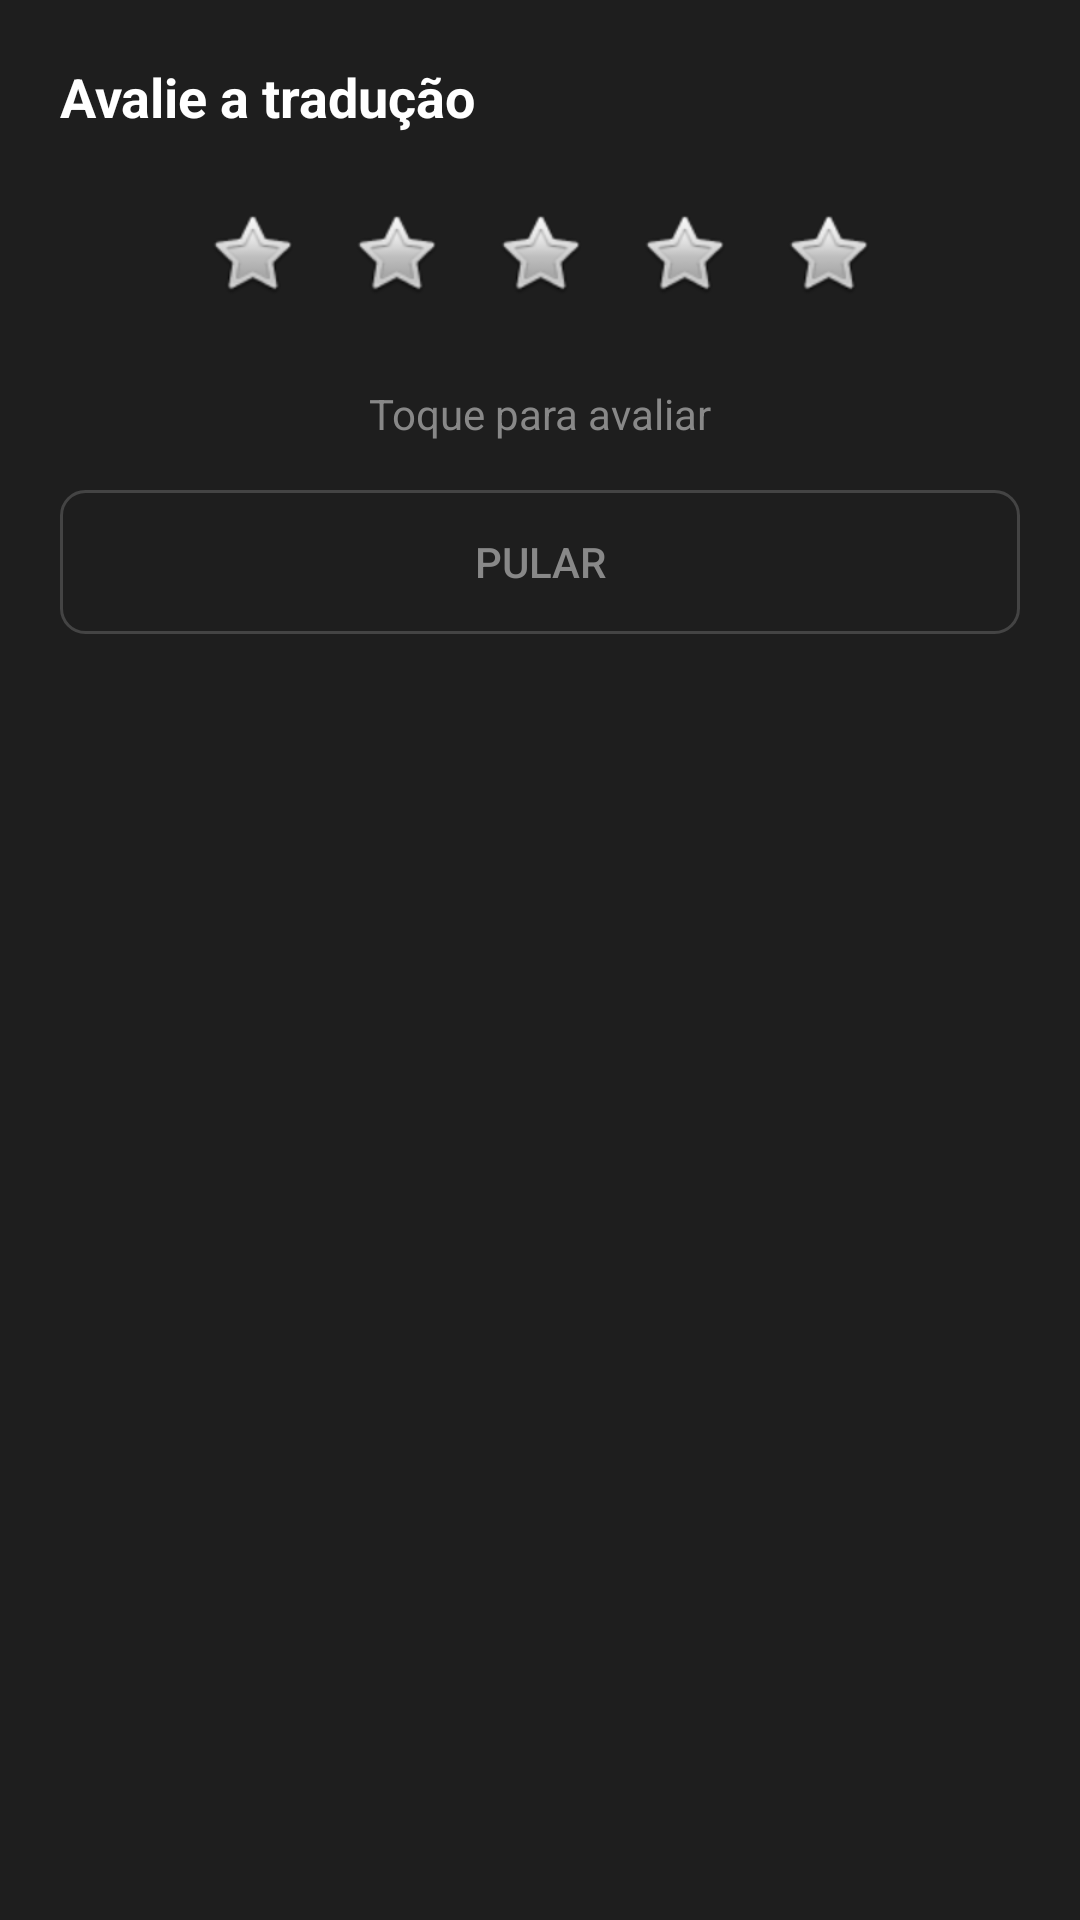

Point at icon controls on the screen. Image size 1080px x 1920px, points as point (x, y).
star off: point (253, 252), point (397, 252), point (541, 252), point (685, 252), point (829, 252)
